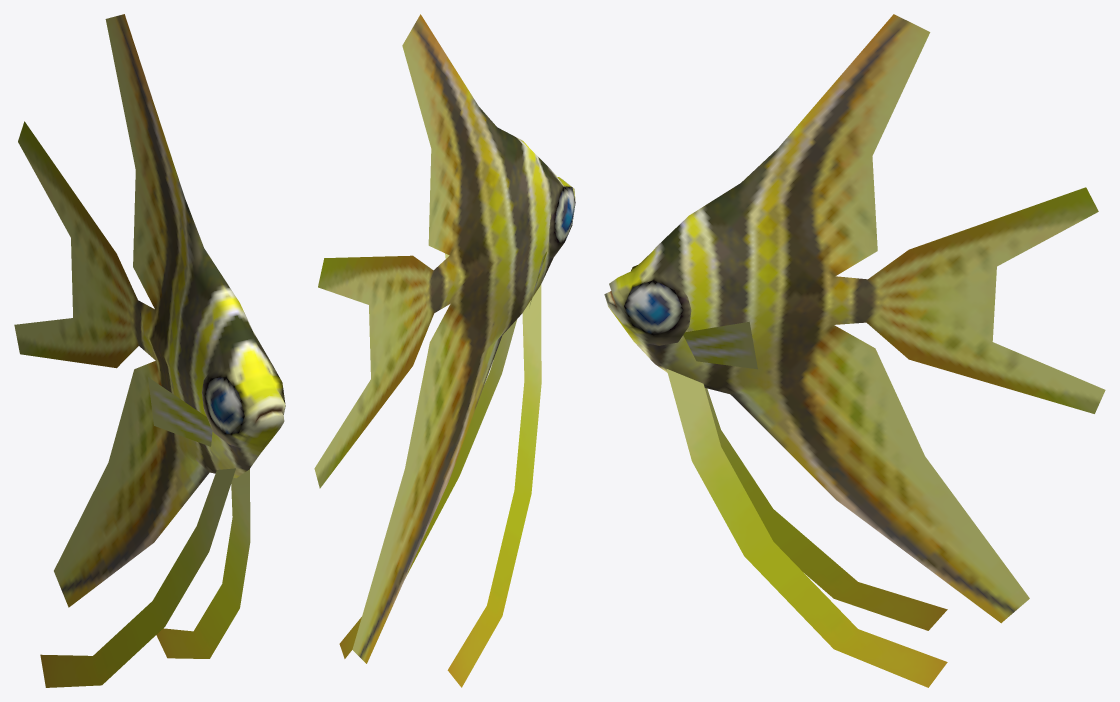
File: FishAngelfish.glb
The picture shows the model from 3 angles, left to right: view 1: azimuth 30°, elevation 25°; view 2: azimuth 150°, elevation 25°; view 3: azimuth 270°, elevation 25°; orthographic projection. The views are drawn at different scales.
Visible parts, largest first — view 1: FishAngelfish__mAngelfish; view 2: FishAngelfish__mAngelfish; view 3: FishAngelfish__mAngelfish.
Part boxes in pixels (x1,y1,x2,y2): FishAngelfish__mAngelfish: (14, 14, 285, 687); FishAngelfish__mAngelfish: (314, 14, 575, 687); FishAngelfish__mAngelfish: (604, 14, 1105, 687).
Bounding box in the file's own units: 1.01 × 5.34 × 3.76.
1 material, 1 textured.
